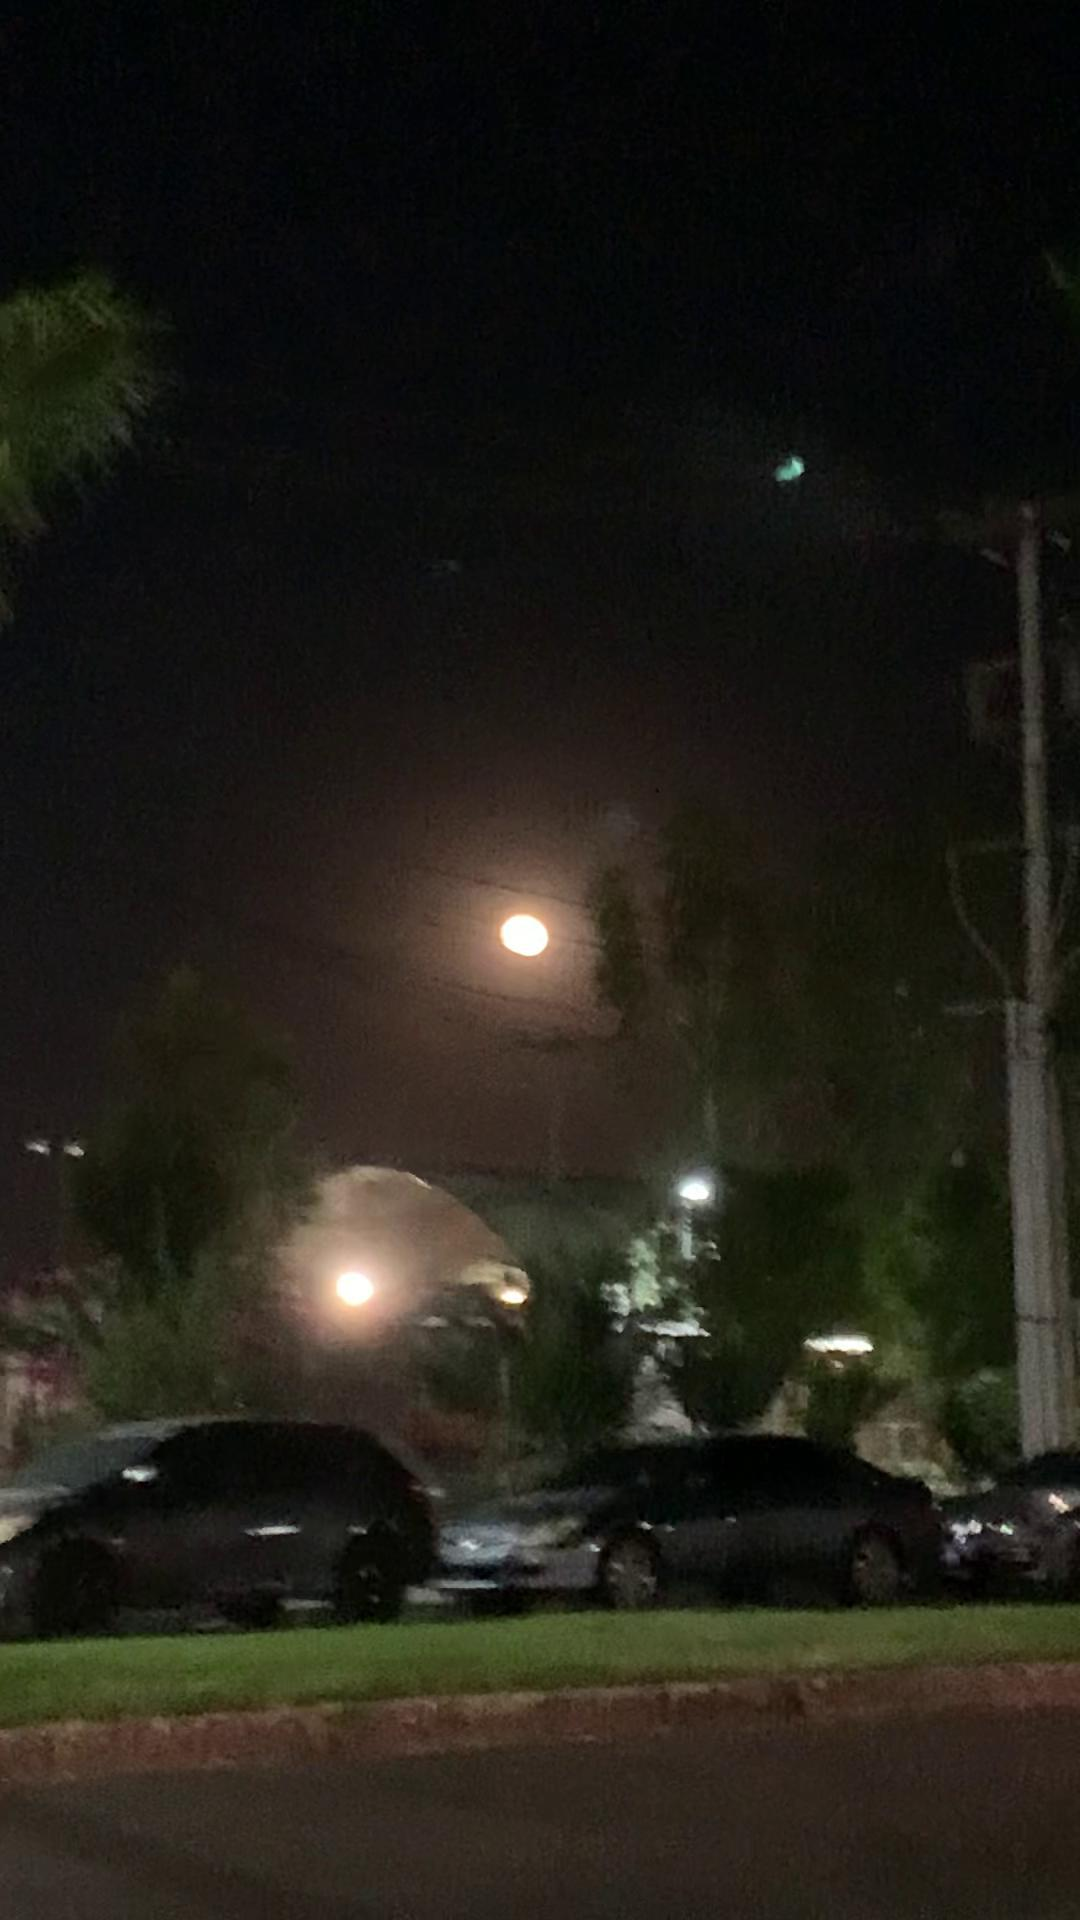moon: (502, 905, 562, 960)
